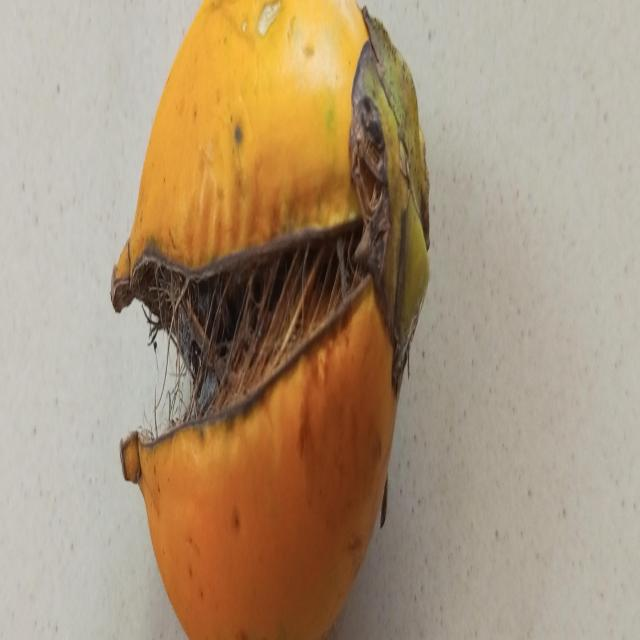damaged: (109, 0, 431, 640)
